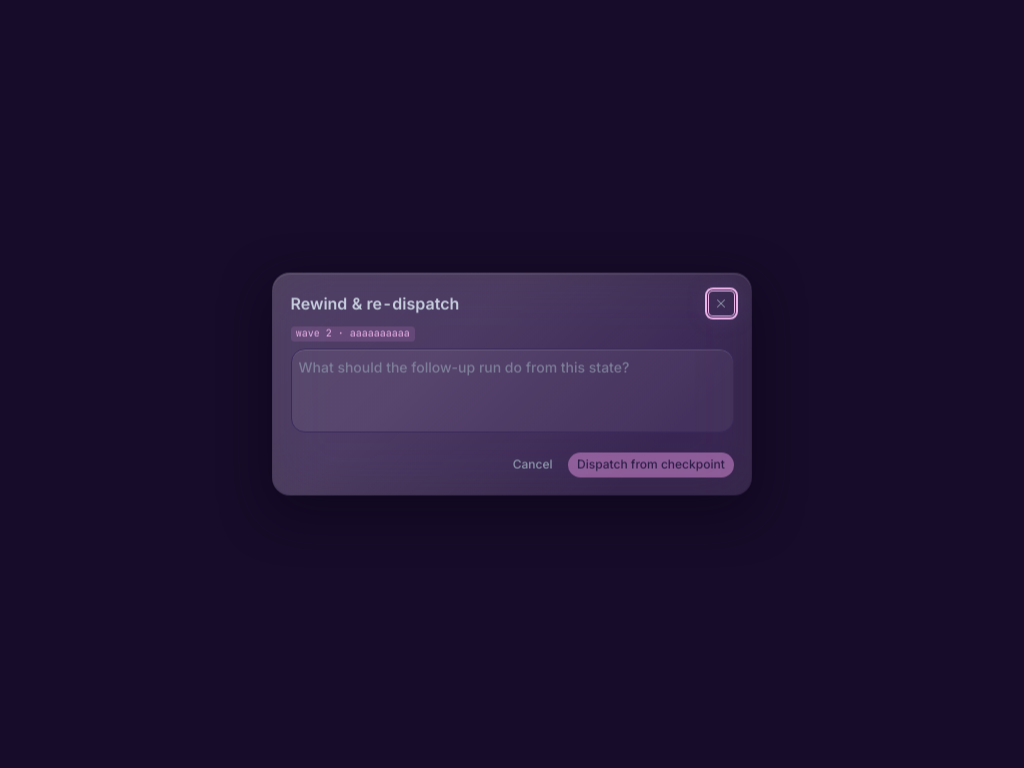
RewindDialog › surfaces a rewind error inside the dialog
In the text box with test id "rewind-prompt": [512, 390] box [290,348,734,432], type "x"
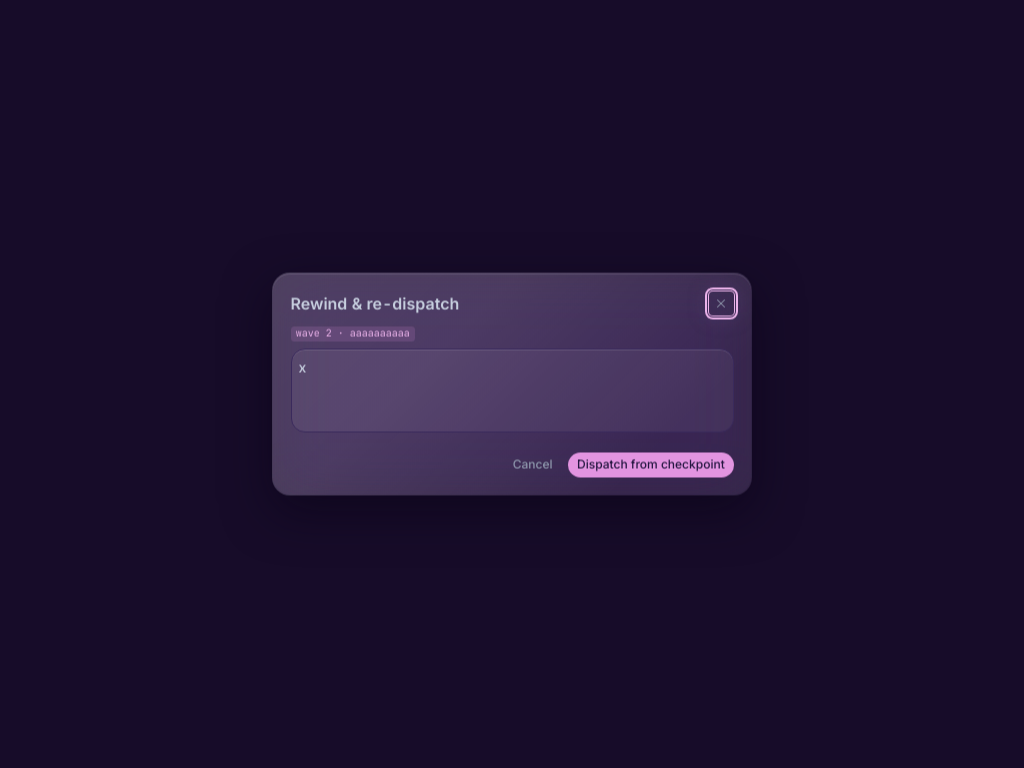
Click the button with test id "rewind-dispatch": [651, 465] box [568,452,734,477]
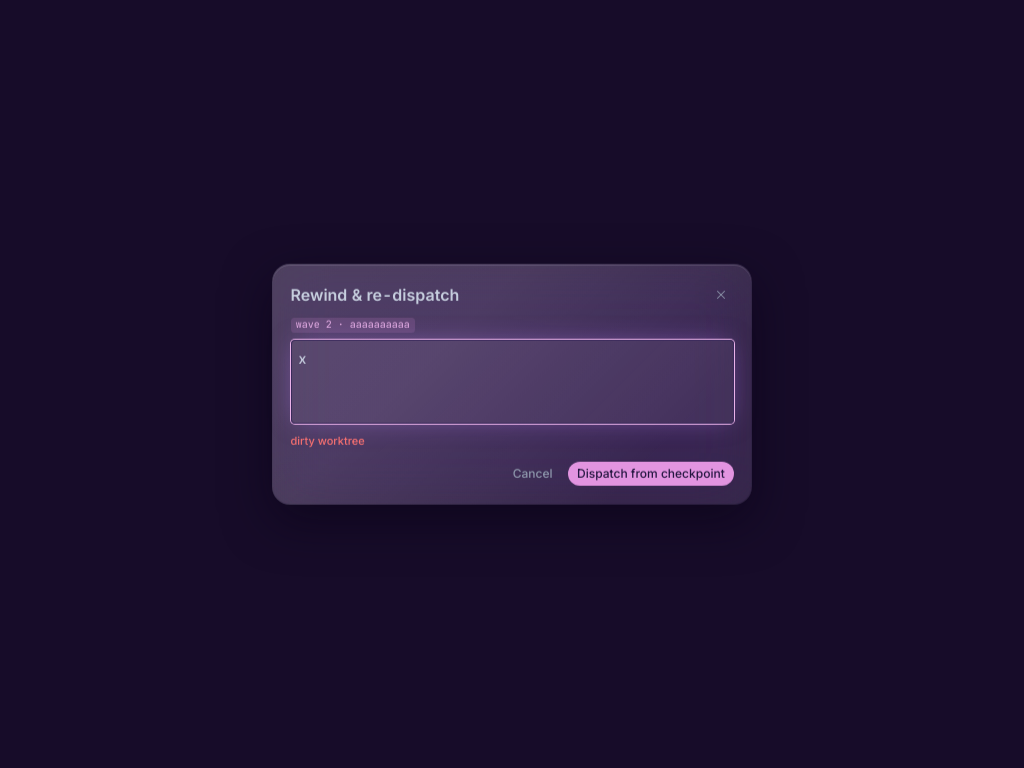
Result: the text "dirty worktree" is shown at [290,433,365,447]
